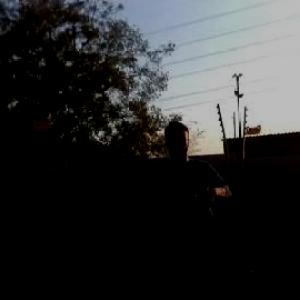follow: (149, 109, 241, 299)
